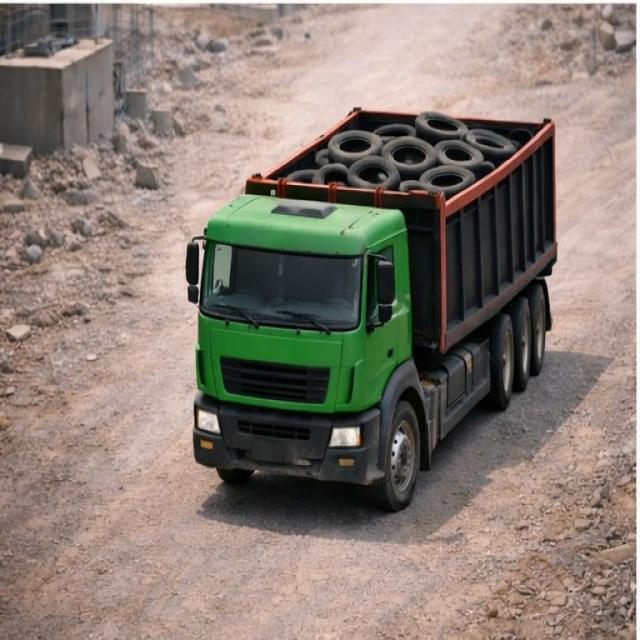trailer: (245, 101, 560, 216)
truck: (186, 78, 580, 492)
